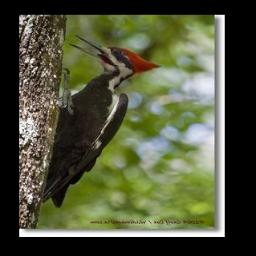Woodpecker: (42, 34, 163, 208)
